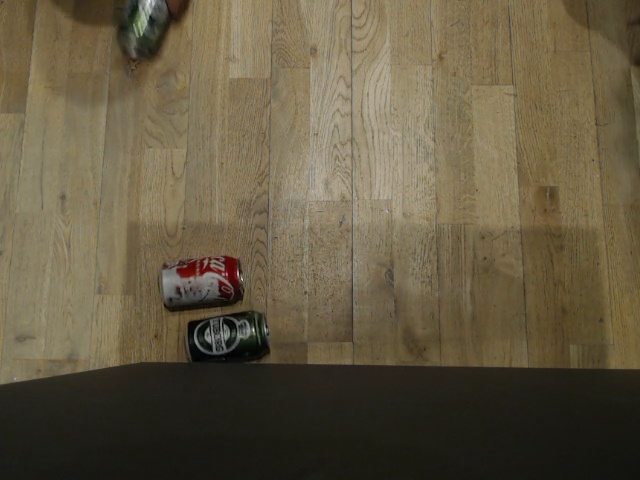beer: (181, 299, 274, 372), (110, 0, 181, 75)
cola: (155, 249, 250, 315)
